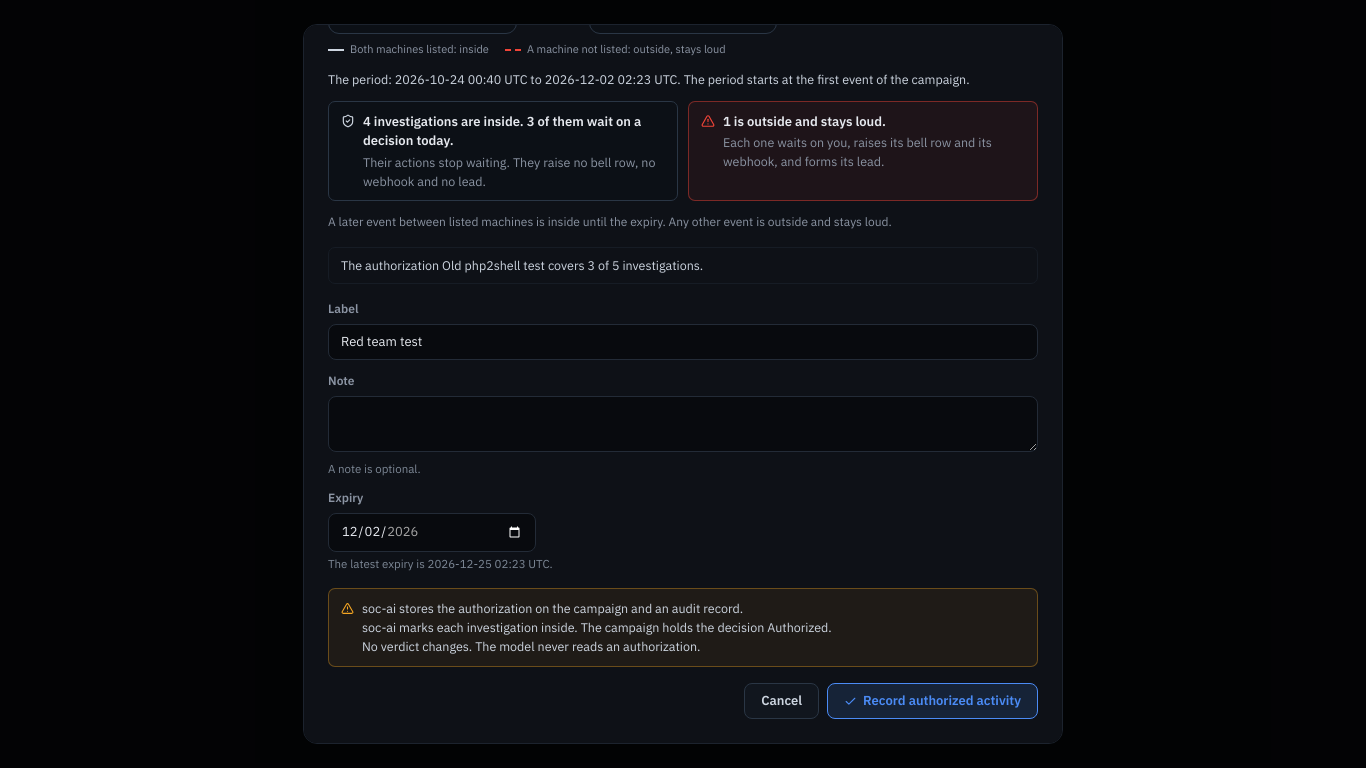
Test: the dialog Record authorized activity › keeps the dialog and states the refusal of the server
The width and height of the screenshot is (1366, 768).
(page scrolled)
Click the button "Record authorized activity" at coordinates (933, 701), box [827, 683, 1038, 719]
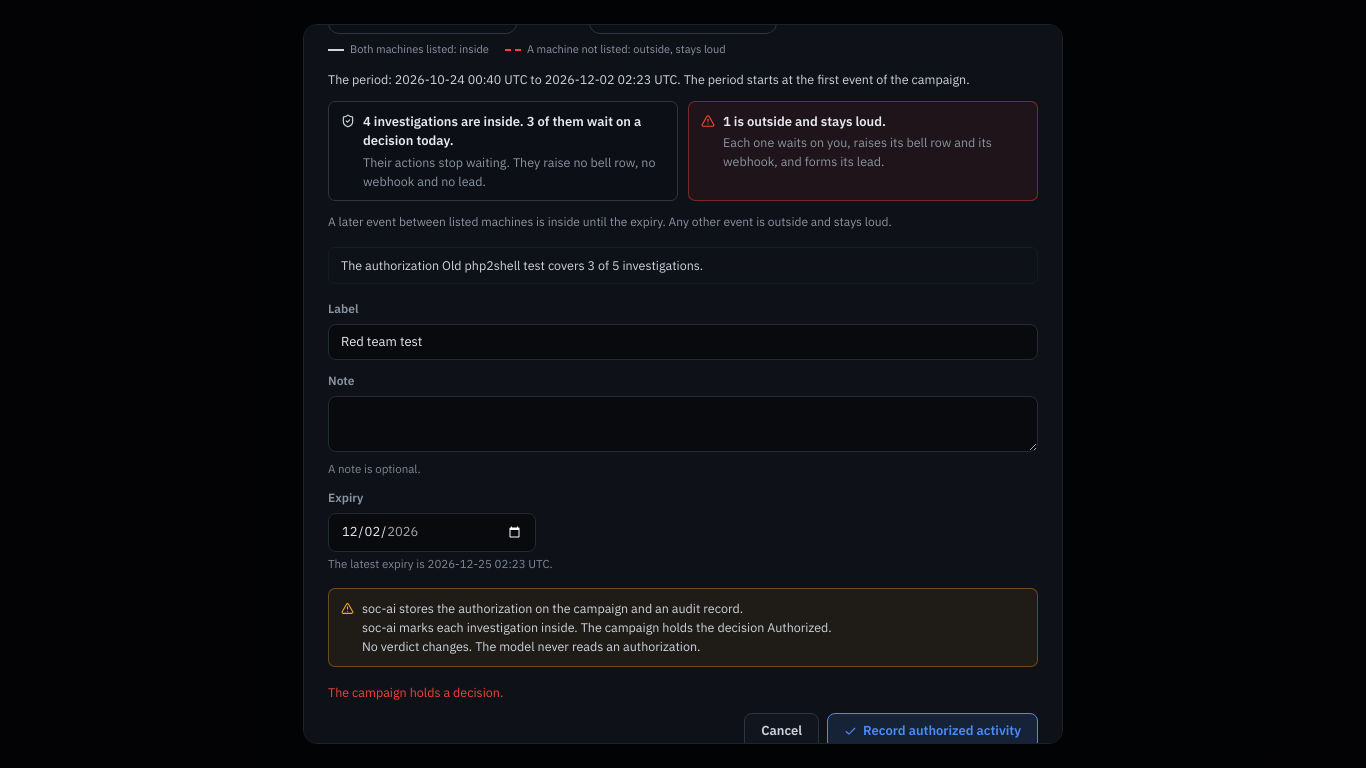
Expected: the dialog is shown, [303, 24, 1063, 744]
Result: the message reads "The campaign holds a decision." at [328, 684, 503, 700]
